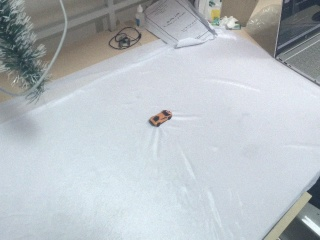toy_car: (149, 110, 173, 127)
